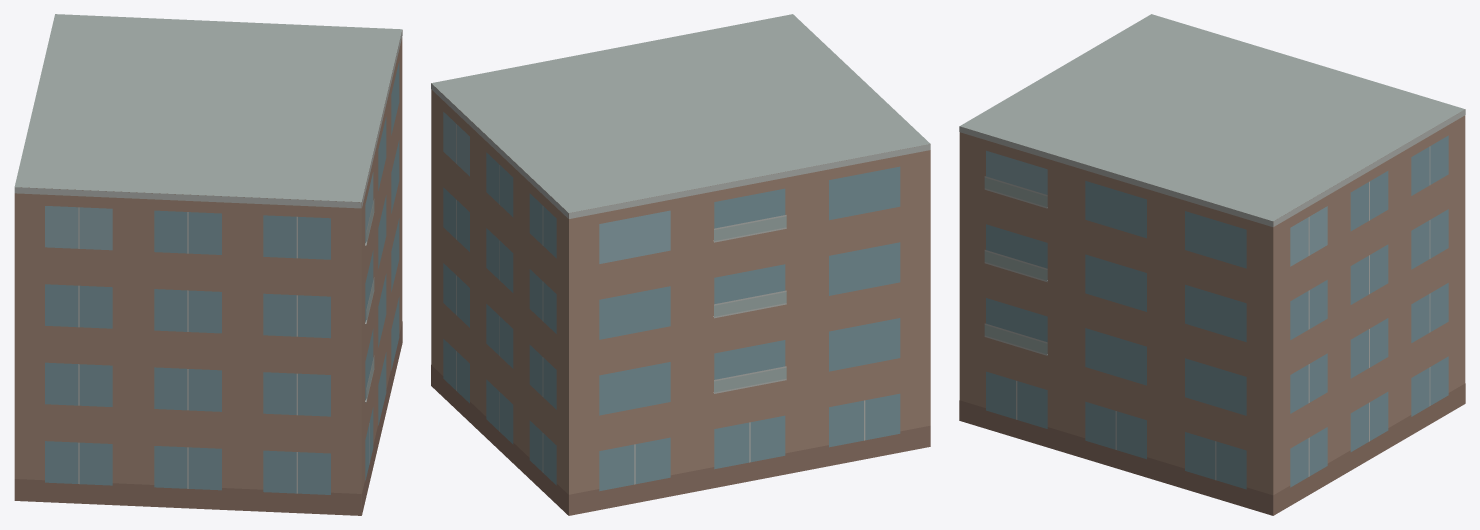
Rendered from survey-upis-32774931.glb.
The picture shows the model from 3 angles, left to right: view 1: azimuth 30°, elevation 25°; view 2: azimuth 150°, elevation 25°; view 3: azimuth 270°, elevation 25°; orthographic projection. The views are drawn at different scales.
Parts seen in each view (by area): view 1: survey-upis-32774931.tmp; view 2: survey-upis-32774931.tmp; view 3: survey-upis-32774931.tmp.
Part boxes in pixels (x1=…): survey-upis-32774931.tmp: x1=14, y1=14, x2=402, y2=515; survey-upis-32774931.tmp: x1=431, y1=14, x2=930, y2=515; survey-upis-32774931.tmp: x1=959, y1=14, x2=1465, y2=515.
Bounding box in the file's own units: 18.44 × 12.2 × 19.01.
